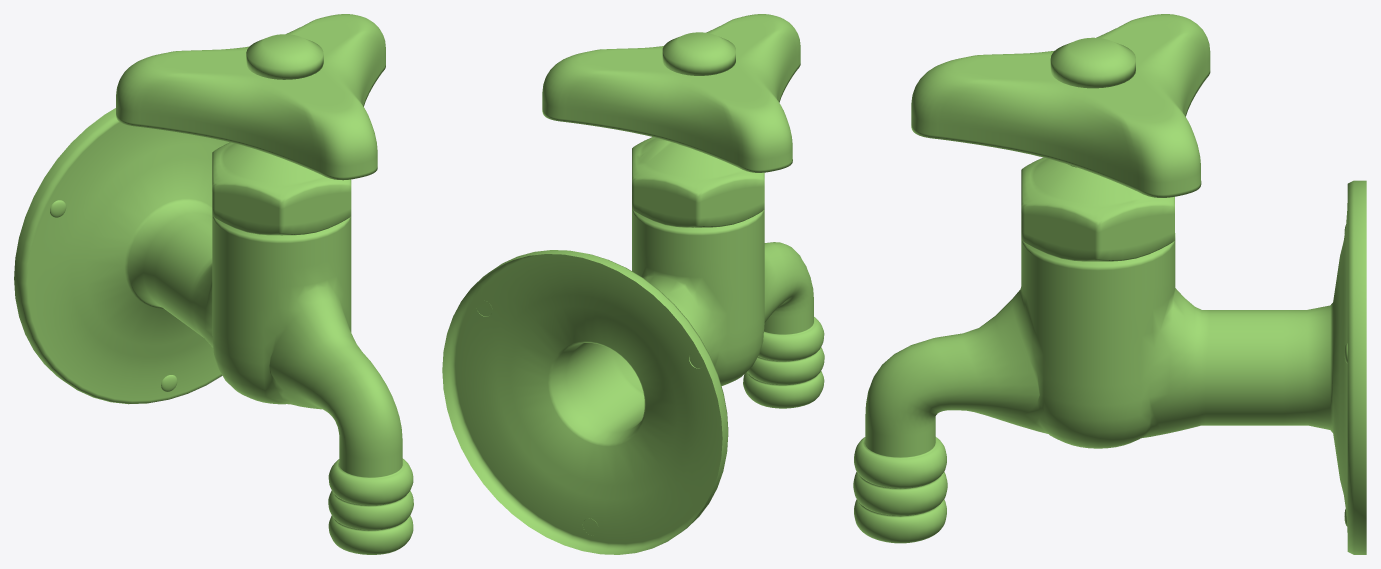
File: grifo.glb
The picture shows the model from 3 angles, left to right: view 1: azimuth 30°, elevation 25°; view 2: azimuth 150°, elevation 25°; view 3: azimuth 270°, elevation 25°; orthographic projection. The views are drawn at different scales.
Visible parts, largest first — view 1: 蛇口; view 2: 蛇口; view 3: 蛇口.
Part boxes in pixels (x1,y1,x2,y2): 蛇口: [14, 14, 413, 554]; 蛇口: [442, 14, 824, 554]; 蛇口: [853, 14, 1366, 554].
Bounding box in the file's own units: 0.6222 × 0.8972 × 0.8523.
